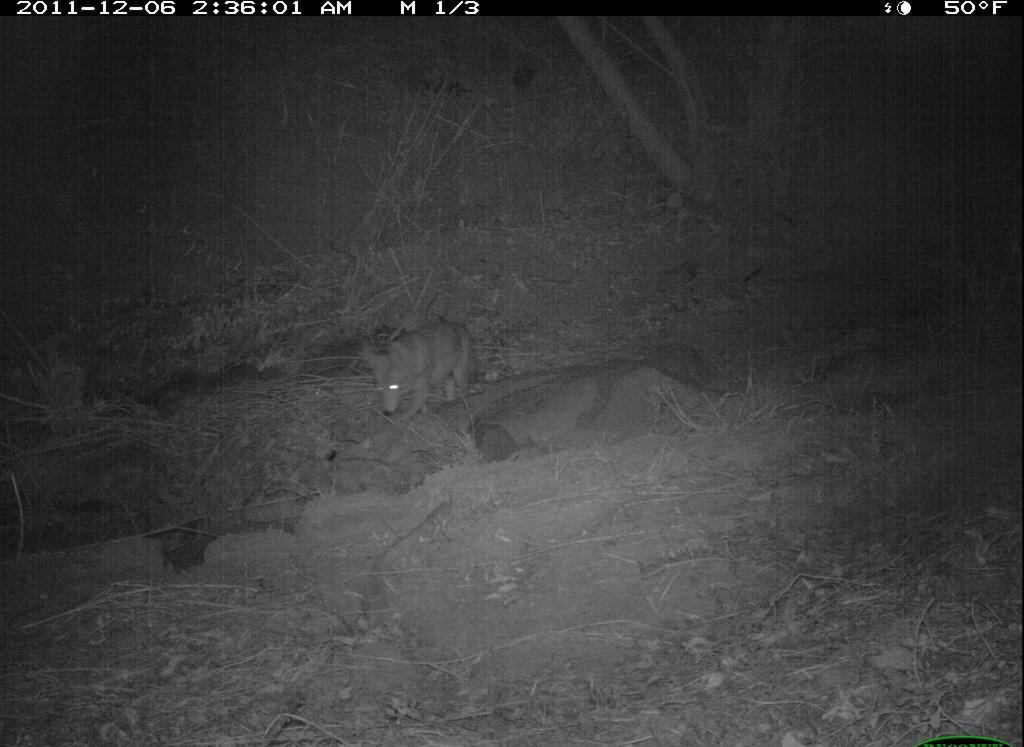coyote: (359, 315, 489, 423)
